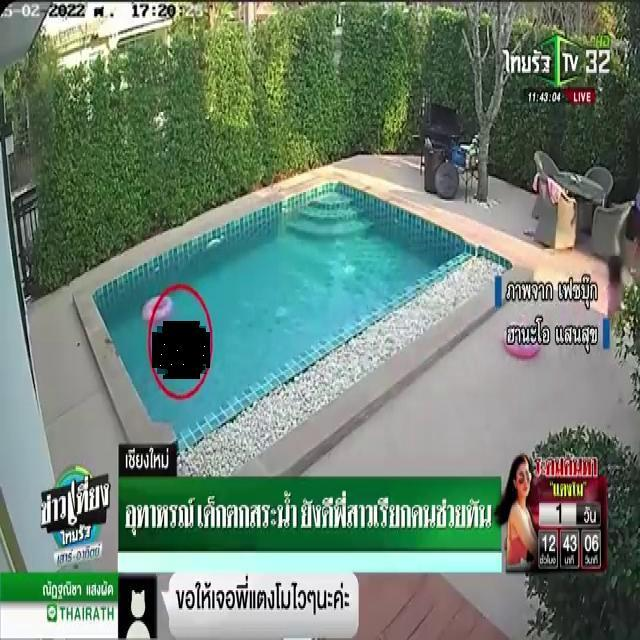Out of Water: (157, 326, 206, 374)
